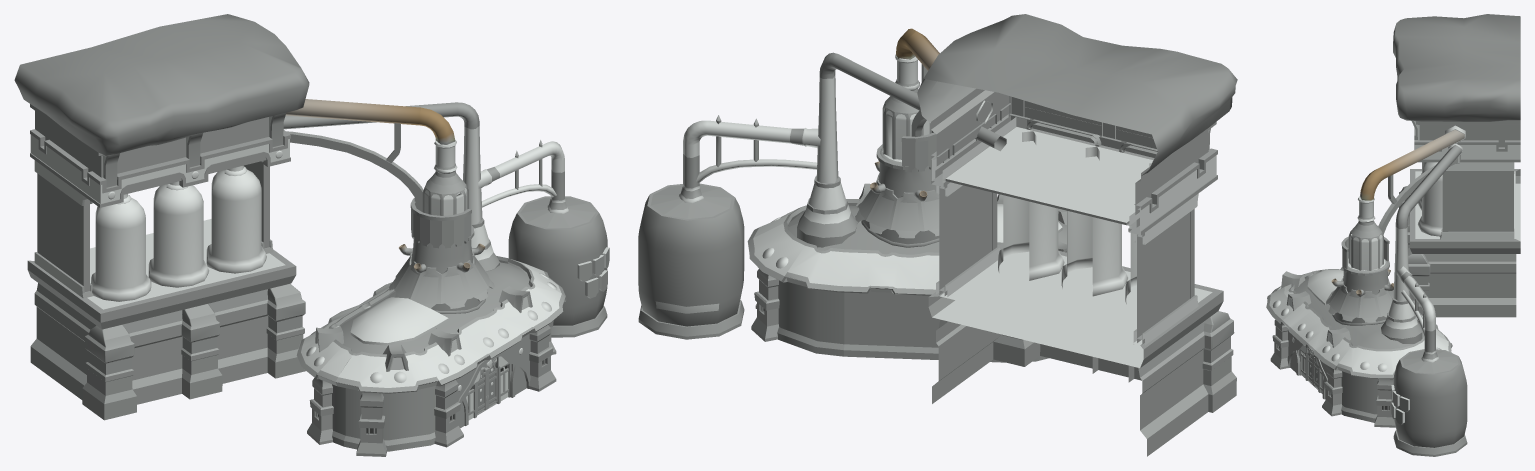
The picture shows the model from 3 angles, left to right: view 1: azimuth 30°, elevation 25°; view 2: azimuth 150°, elevation 25°; view 3: azimuth 270°, elevation 25°; orthographic projection. The views are drawn at different scales.
Parts seen in each view (by area): view 1: G:\FFXIV-MapTools\exports\n4f1\bg\ex3\01_nvt_n4\fld\n4f1\bgp (×12); view 2: G:\FFXIV-MapTools\exports\n4f1\bg\ex3\01_nvt_n4\fld\n4f1\bgp (×12); view 3: G:\FFXIV-MapTools\exports\n4f1\bg\ex3\01_nvt_n4\fld\n4f1\bgp (×12).
Part boxes in pixels (x1=…): G:\FFXIV-MapTools\exports\n4f1\bg\ex3\01_nvt_n4\fld\n4f1\bgp (×12): x1=14, y1=14, x2=609, y2=456; G:\FFXIV-MapTools\exports\n4f1\bg\ex3\01_nvt_n4\fld\n4f1\bgp (×12): x1=638, y1=14, x2=1237, y2=456; G:\FFXIV-MapTools\exports\n4f1\bg\ex3\01_nvt_n4\fld\n4f1\bgp (×12): x1=1266, y1=14, x2=1520, y2=456.
Size of the model in its own units: 24.64 by 14.93 by 13.54.
